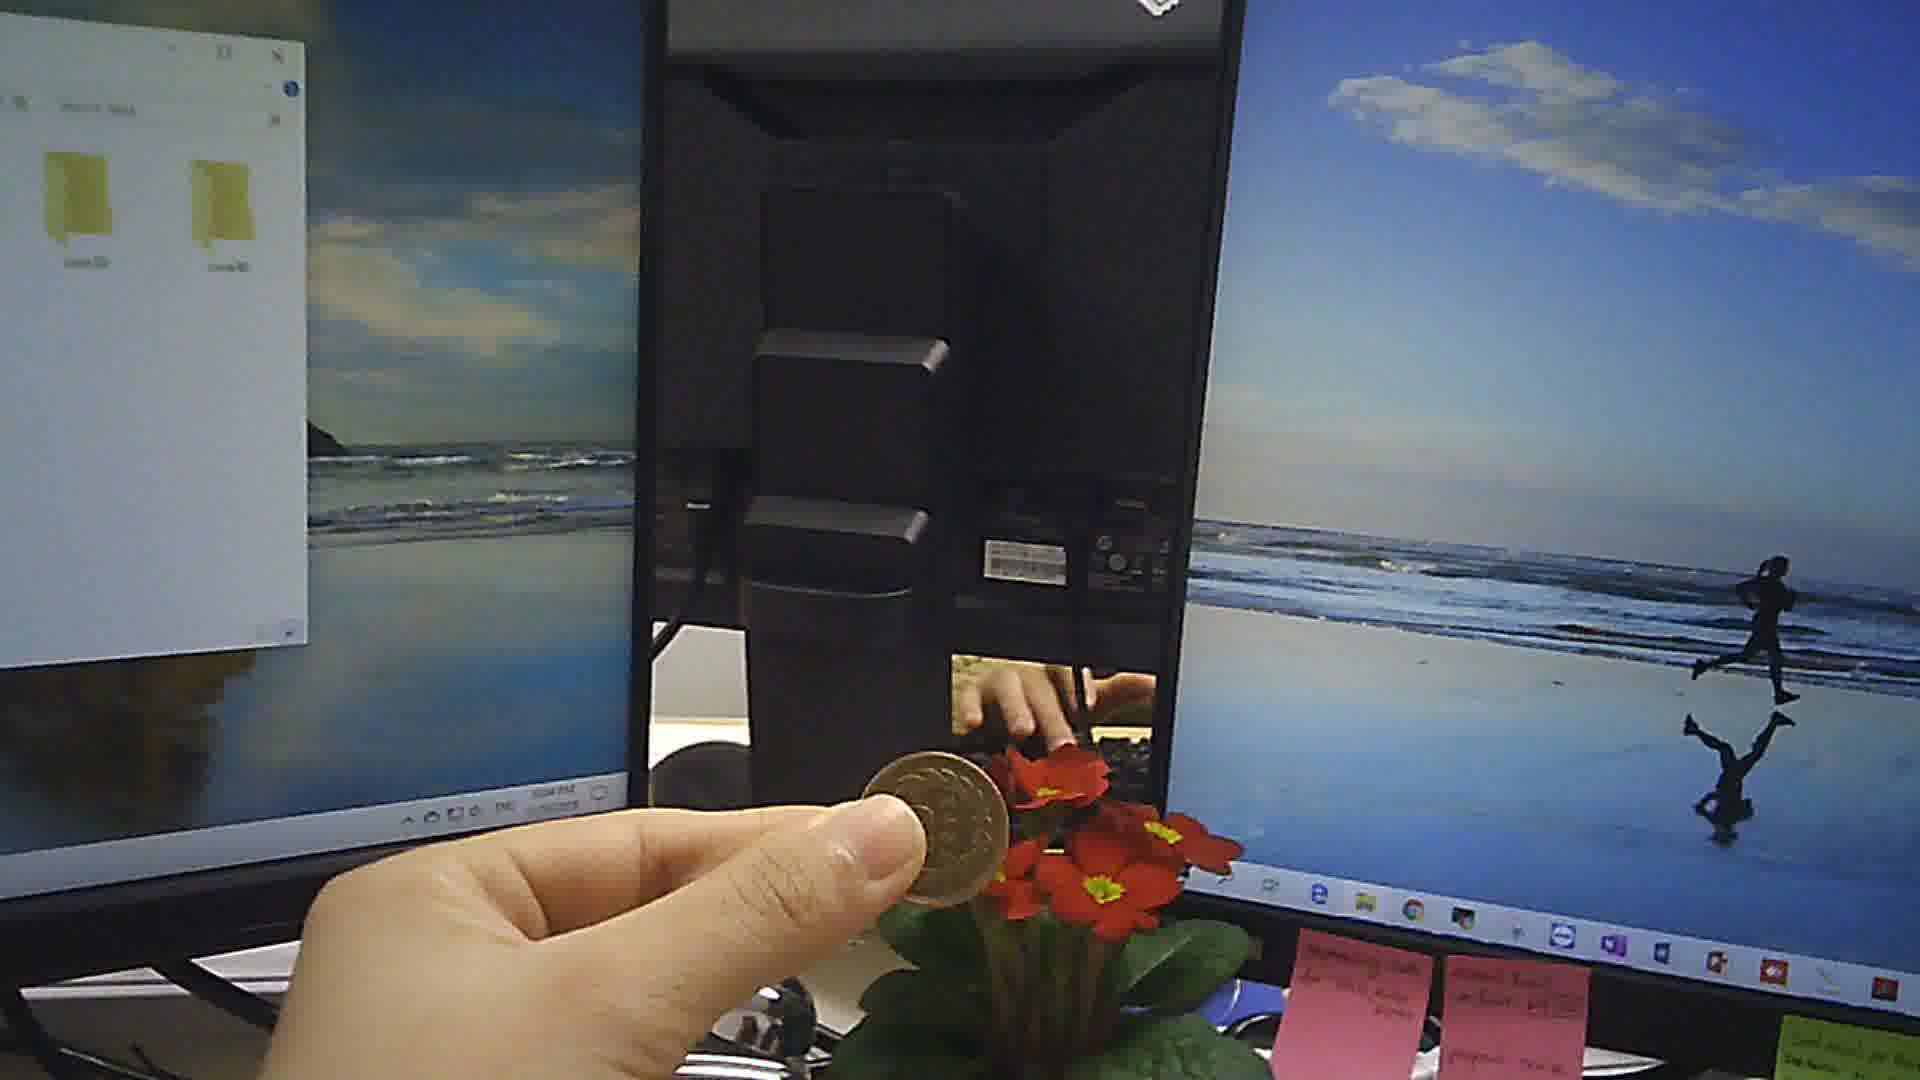10 Yen: (853, 740, 1014, 915)
